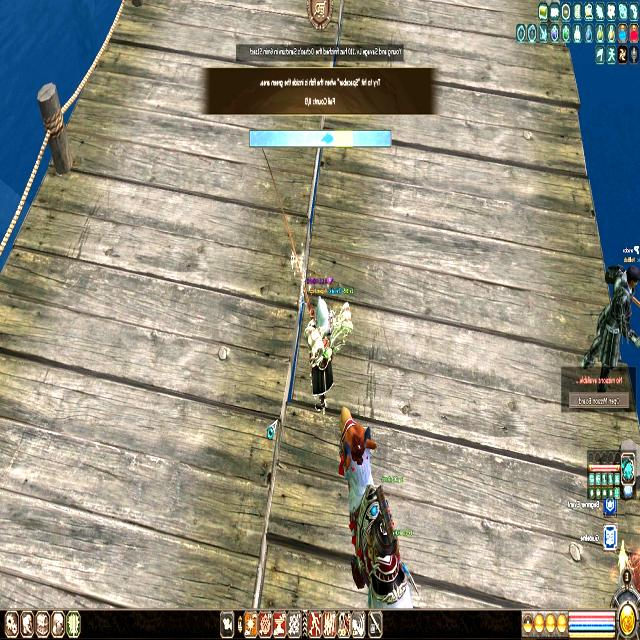fishes: (321, 132, 334, 146)
